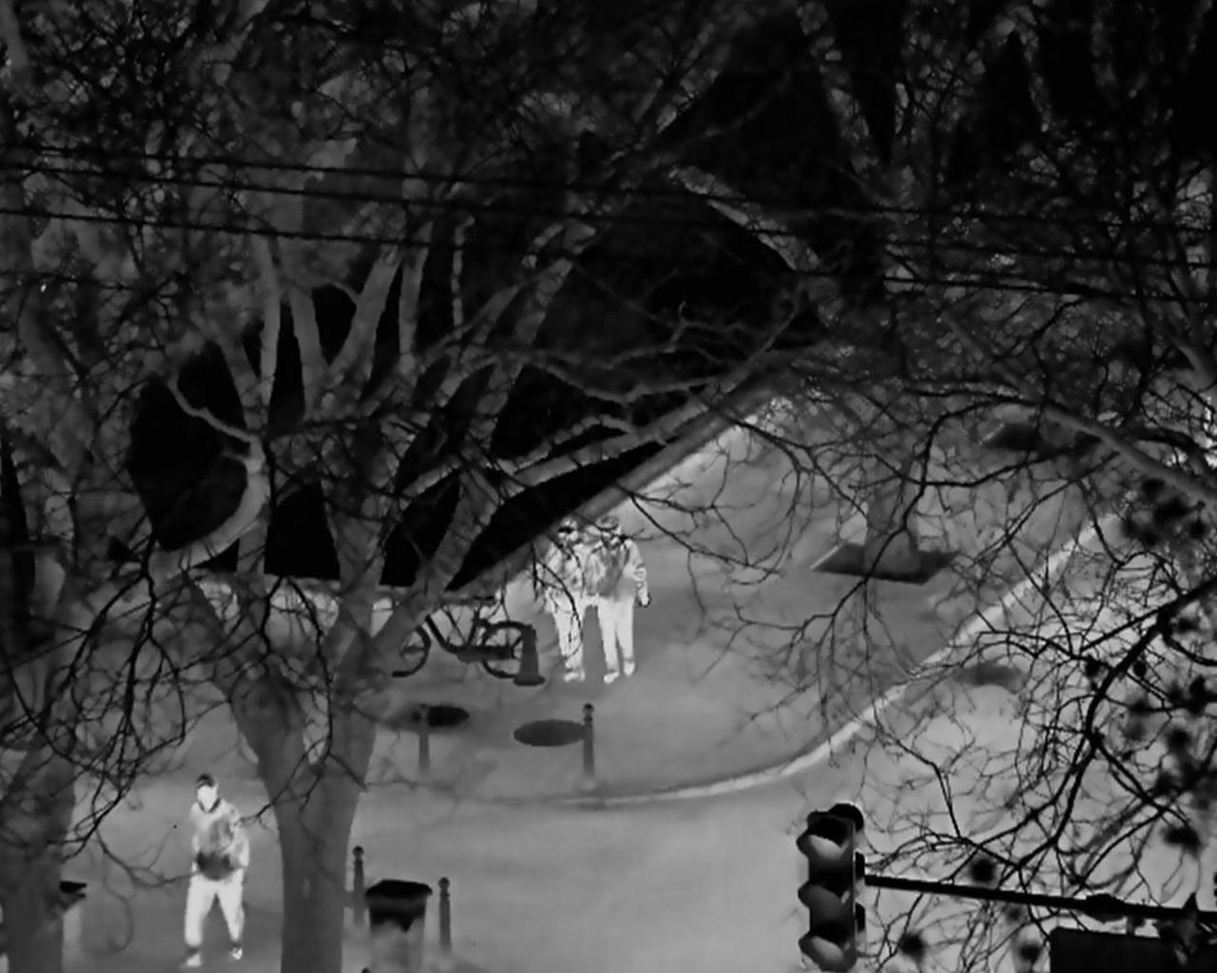person: (183, 774, 251, 966), (588, 517, 646, 684), (544, 517, 591, 682)
